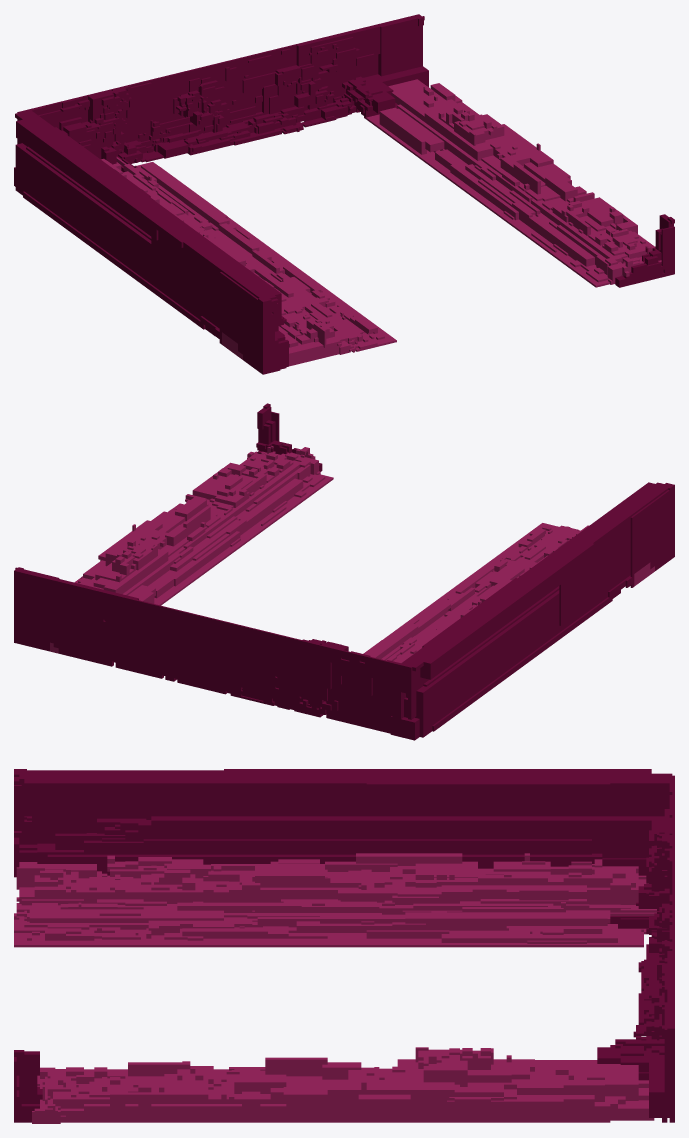
Rendered from ZonaMundoPelea-3-Bordes.obj.
The picture shows the model from 3 angles, top to bottom: view 1: azimuth 30°, elevation 25°; view 2: azimuth 150°, elevation 25°; view 3: azimuth 270°, elevation 25°; orthographic projection. The views are drawn at different scales.
Parts seen in each view (by area): view 1: Bordes; view 2: Bordes; view 3: Bordes.
Part boxes in pixels (x1=…): Bordes: x1=14, y1=14, x2=674, y2=374; Bordes: x1=14, y1=403, x2=674, y2=740; Bordes: x1=14, y1=769, x2=674, y2=1123.
Bounding box in the file's own units: 24 × 4 × 25.5.
1 material, 1 textured.
